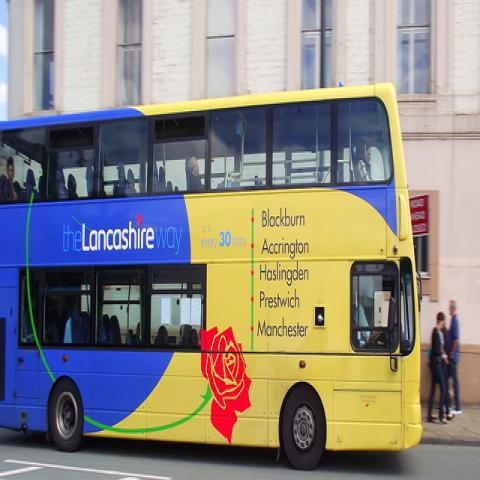bus: (1, 81, 422, 471)
